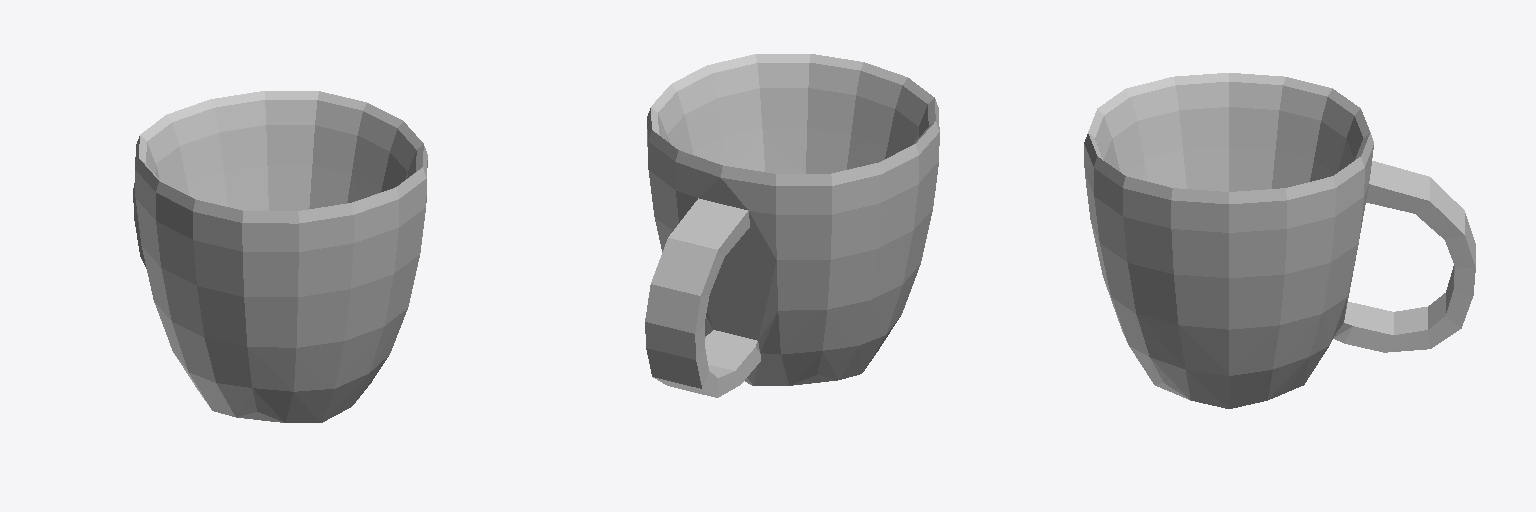
The model's file is teacup.obj.
3 views of the same model, side by side, from view 1: azimuth 30°, elevation 25°; view 2: azimuth 150°, elevation 25°; view 3: azimuth 270°, elevation 25° (orthographic).
Visible parts, largest first — view 1: Cube.001; view 2: Cube.001; view 3: Cube.001.
Part boxes in pixels (left/top/right/bottom): Cube.001: left=133, top=91, right=427, bottom=422; Cube.001: left=645, top=54, right=939, bottom=397; Cube.001: left=1084, top=73, right=1475, bottom=408.
Size of the model in its own units: 1.72 by 1.61 by 2.32.